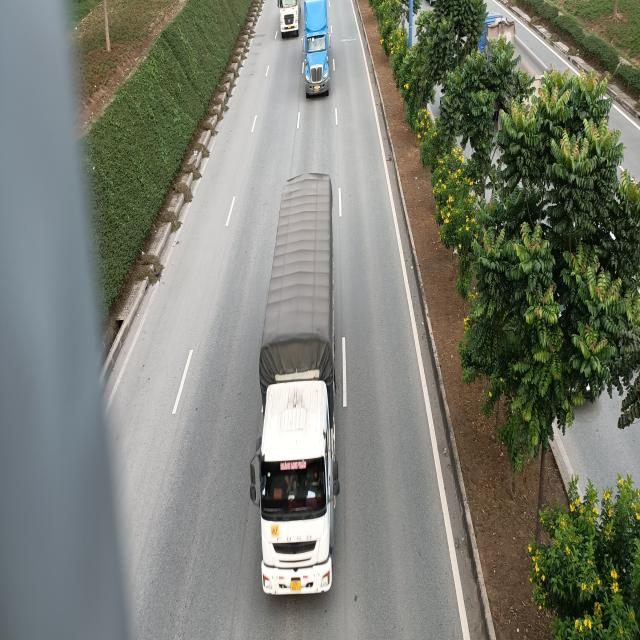container: (302, 1, 331, 97)
truck: (249, 173, 341, 600)
